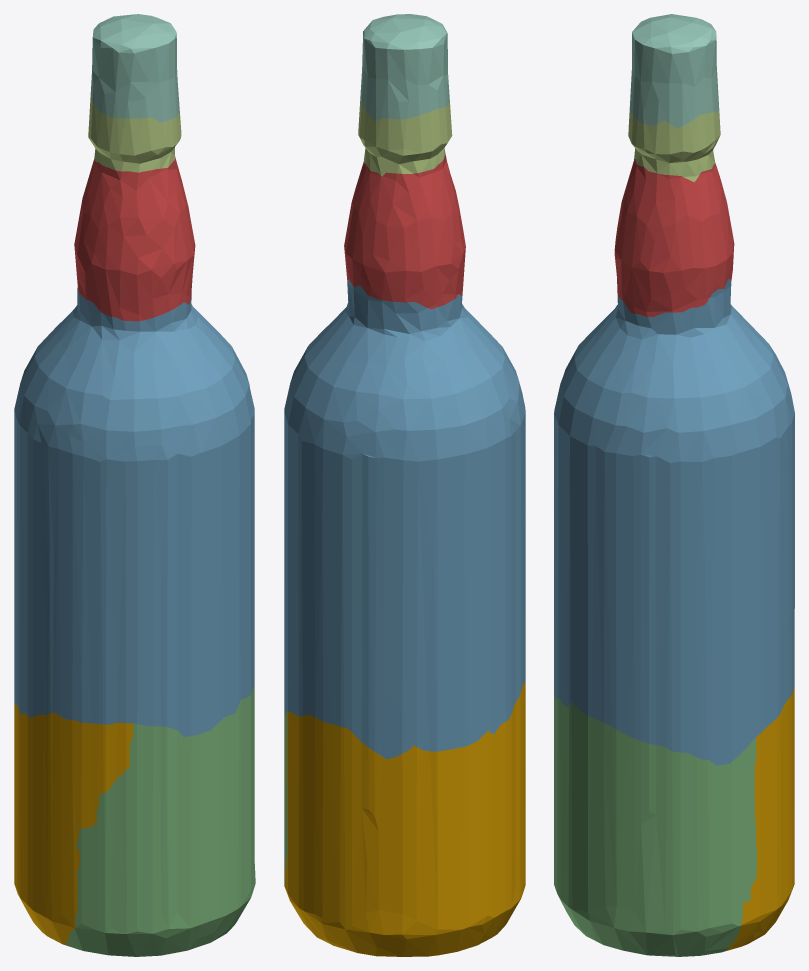
Rendered from fractured_54_6pcs.glb.
3 views of the same model, side by side, from view 1: azimuth 30°, elevation 25°; view 2: azimuth 150°, elevation 25°; view 3: azimuth 270°, elevation 25° (orthographic).
Parts seen in each view (by area): view 1: piece_2.obj, piece_3.obj, piece_0.obj, piece_1.obj, piece_4.obj, piece_5.obj; view 2: piece_2.obj, piece_0.obj, piece_1.obj, piece_4.obj, piece_5.obj, piece_3.obj; view 3: piece_2.obj, piece_3.obj, piece_1.obj, piece_4.obj, piece_0.obj, piece_5.obj.
Part boxes in pixels (<box>): piece_2.obj: <box>14,288,254,736</box>; piece_3.obj: <box>65,685,255,956</box>; piece_0.obj: <box>14,703,133,945</box>; piece_1.obj: <box>74,156,195,321</box>; piece_4.obj: <box>90,14,179,122</box>; piece_5.obj: <box>88,98,181,172</box>; piece_2.obj: <box>284,280,525,759</box>; piece_0.obj: <box>284,679,525,956</box>; piece_1.obj: <box>344,155,465,309</box>; piece_4.obj: <box>360,14,449,121</box>; piece_5.obj: <box>358,100,452,176</box>; piece_3.obj: <box>284,712,287,886</box>; piece_2.obj: <box>554,278,794,765</box>; piece_3.obj: <box>554,694,756,956</box>; piece_1.obj: <box>614,158,734,316</box>; piece_4.obj: <box>629,14,718,128</box>; piece_0.obj: <box>727,686,794,950</box>; piece_5.obj: <box>628,107,720,182</box>.
Bounding box in the file's own units: 0.242 × 1 × 0.2421.
